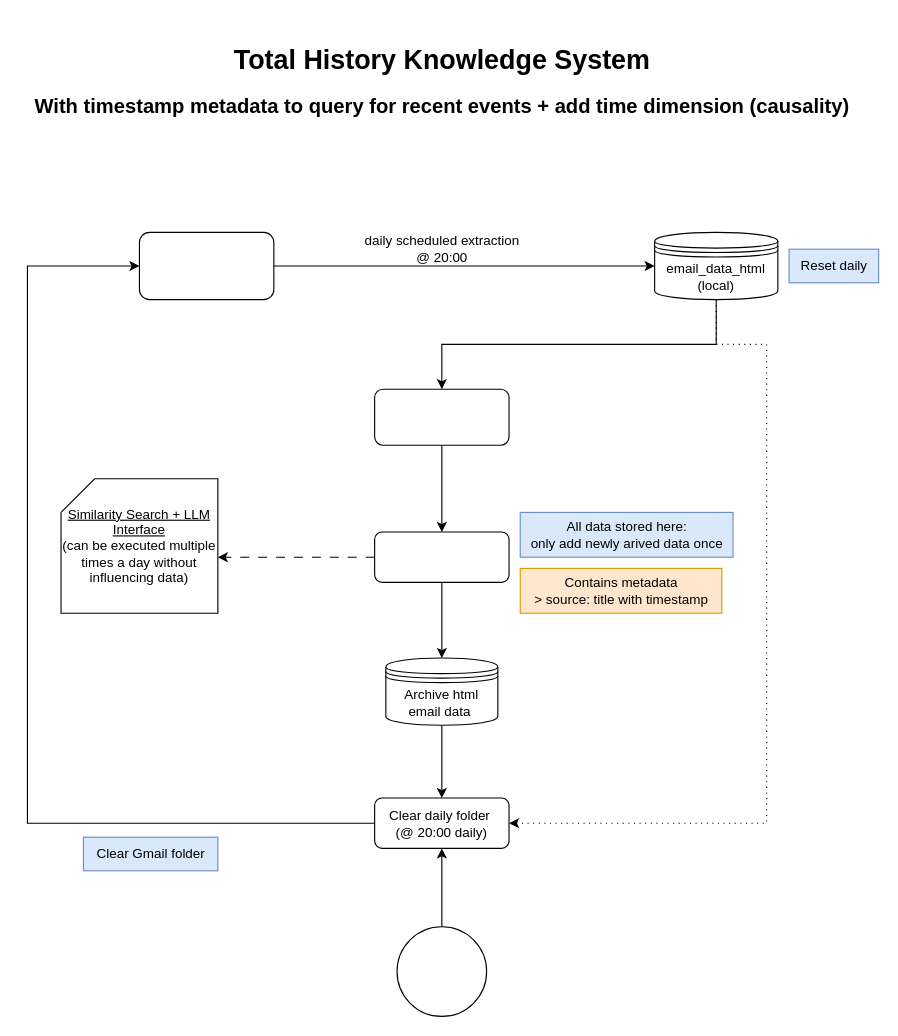
Image size: 898x1036. Some labels were removed from this diagram. The centre of each missing label's shape, as x and y in pixels:
"Gmail API" goes at (206,265).
"Load and Embed" goes at (441,416).
"Store Embedding (Chroma DB)" goes at (441,556).
"System Init" goes at (441,971).
